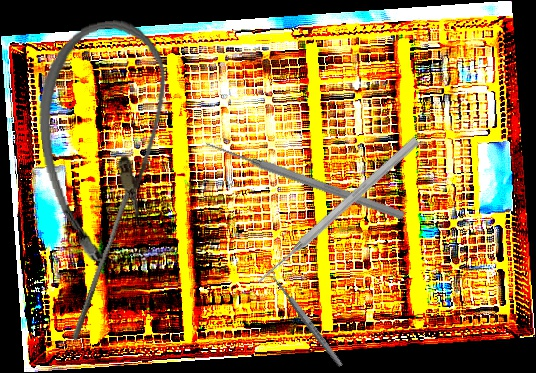Cannula: (28, 14, 188, 267)
Pusher: (253, 134, 422, 288), (203, 137, 406, 222), (71, 174, 138, 343)
Surgical Spoon: (265, 267, 345, 369)
